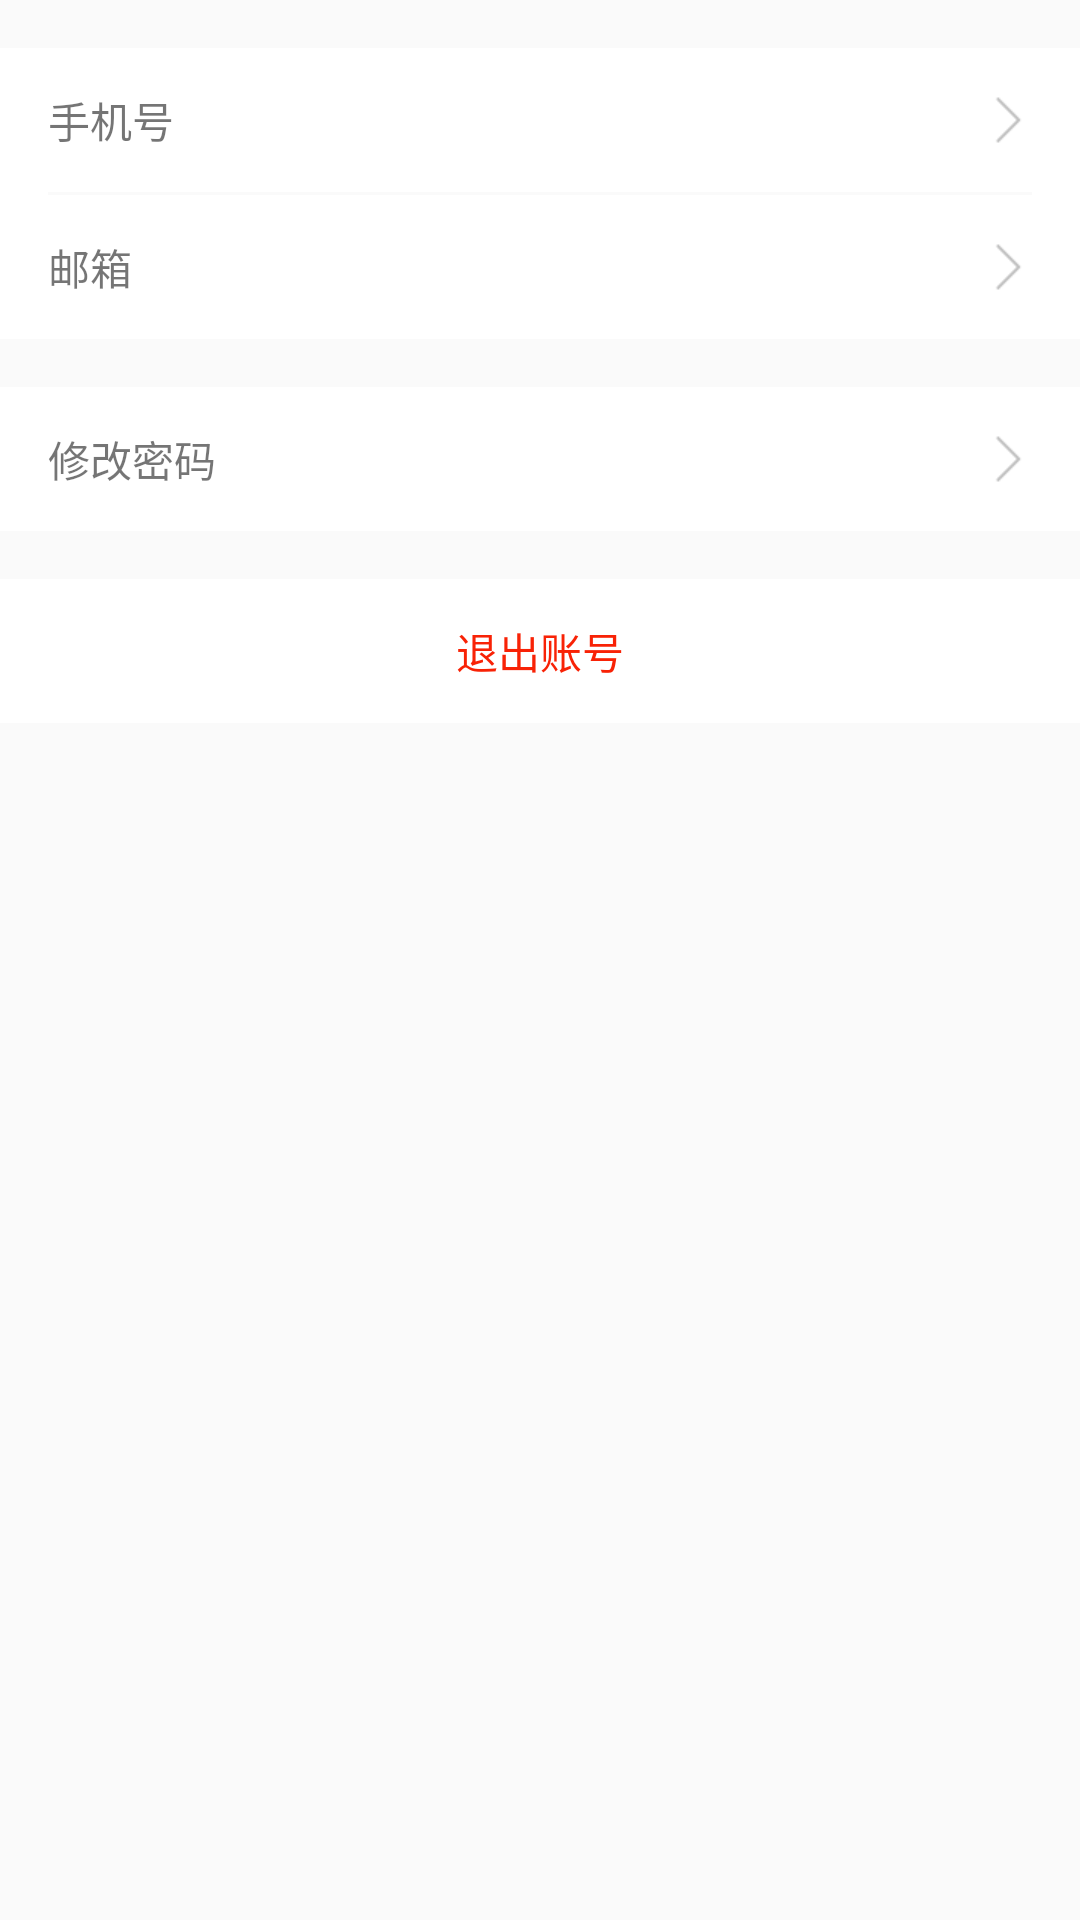

Named icons in this screenshot (1080px x 1920px) and their bounding boxes, (x1, y1, x2, y2):
arrow: (997, 97, 1020, 143), (997, 244, 1020, 290), (997, 436, 1020, 482)
